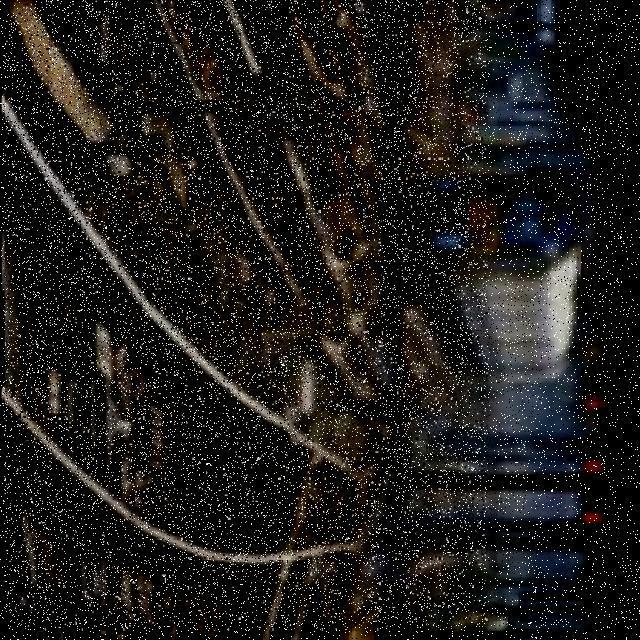rail: (3, 1, 486, 630)
